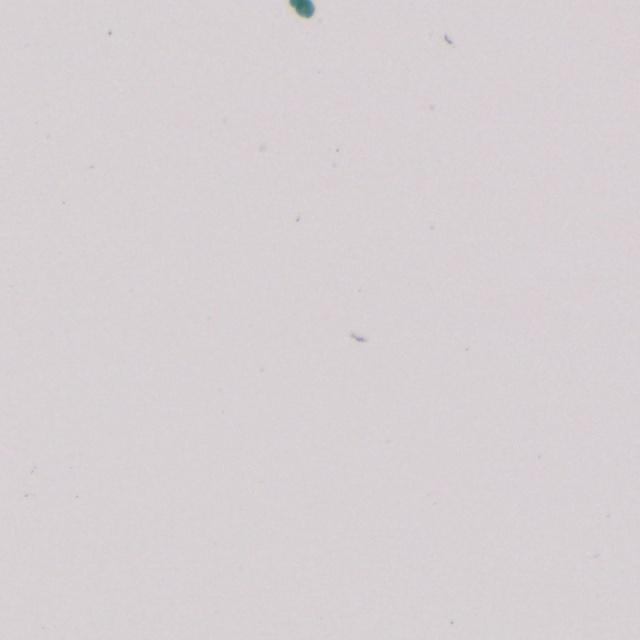non_viable: (289, 0, 314, 17)
